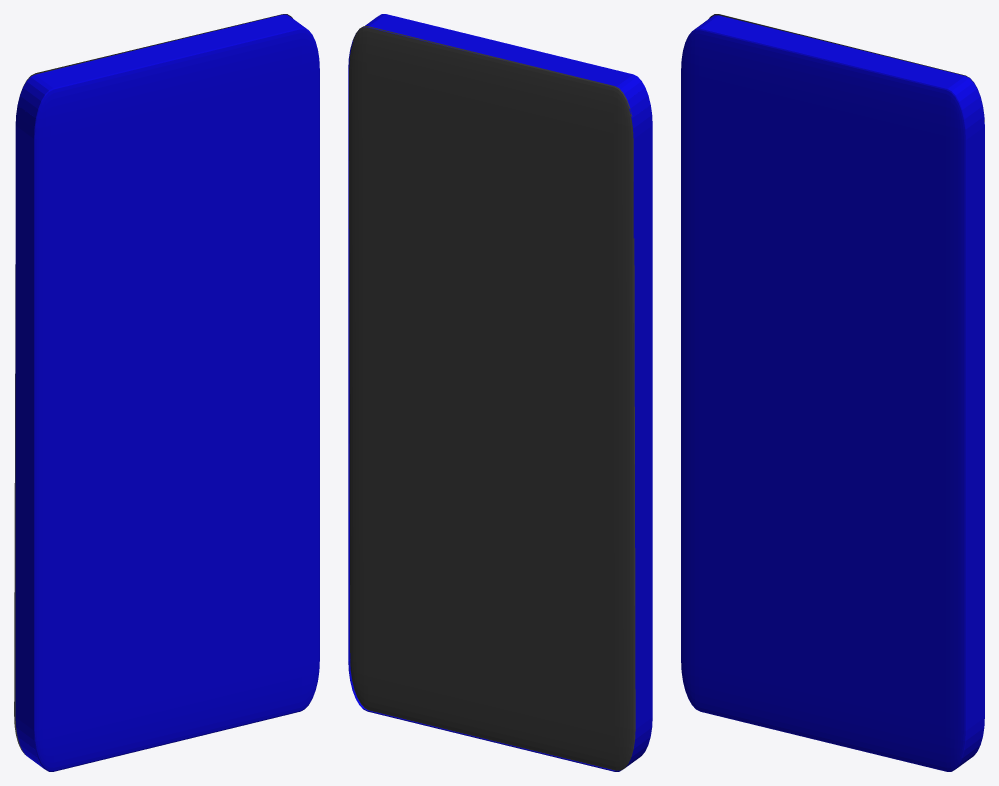
File: phoneBlue.fbx
3 renders of one model, left to right at view 1: azimuth 30°, elevation 25°; view 2: azimuth 150°, elevation 25°; view 3: azimuth 330°, elevation 25°, orthographic.
Visible parts, largest first — view 1: Куб, Куб.001; view 2: Куб.001, Куб; view 3: Куб.
Part boxes in pixels (x1,y1,x2,y2): Куб: (15, 14, 319, 771); Куб.001: (14, 14, 292, 754); Куб.001: (349, 26, 635, 770); Куб: (348, 14, 652, 771); Куб: (681, 15, 984, 771).
Bounding box in the file's own units: 7.04 × 16.04 × 0.9036.
